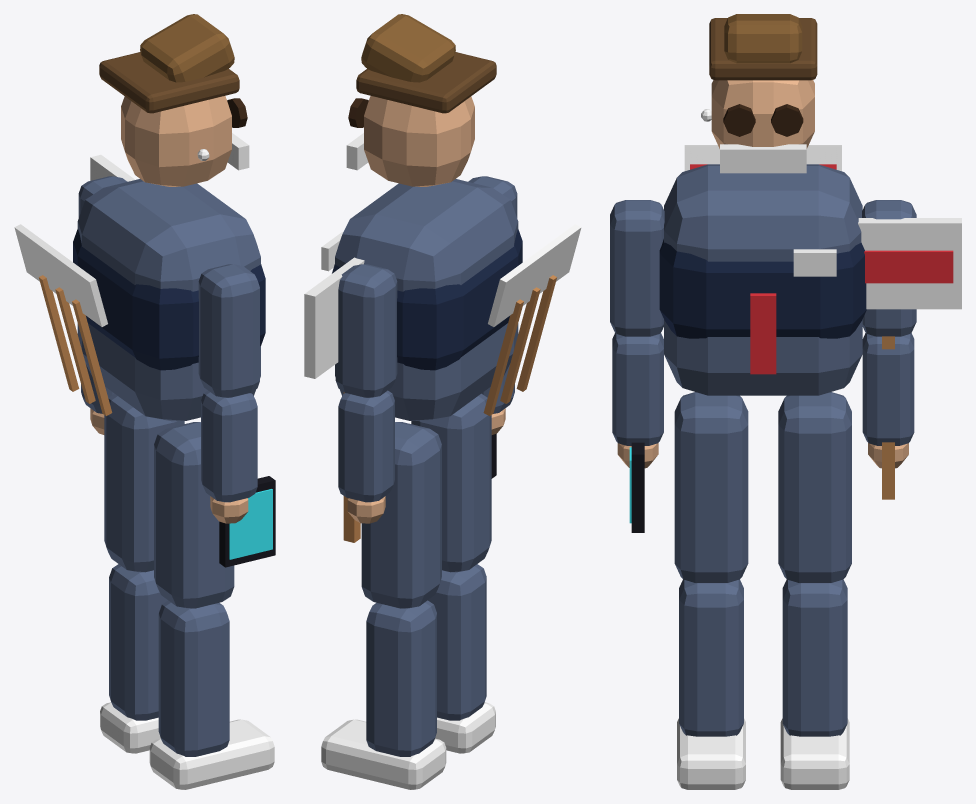
Rendered from agent_immo.glb.
The picture shows the model from 3 angles, left to right: view 1: azimuth 30°, elevation 25°; view 2: azimuth 150°, elevation 25°; view 3: azimuth 270°, elevation 25°; orthographic projection. The views are drawn at different scales.
Visible parts, largest first — view 1: p_rbox.2089, p_rbox.2083, p_rbox.2084, p_rbox.2090, p_rbox.2086, p_rbox.2091, p_rbox.2094, p_rbox.2087, p_rbox.2095, p_rbox.2085, p_rbox.2093, p_rbox.2092 (+13 smaller); view 2: p_rbox.2089, p_rbox.2086, p_rbox.2087, p_rbox.2090, p_rbox.2083, p_rbox.2091, p_rbox.2096, p_rbox.2084, p_rbox.2097, p_rbox.2088, p_rbox.2093, p_rbox.2092 (+12 smaller); view 3: p_rbox.2089, p_rbox.2090, p_rbox.2083, p_rbox.2086, p_rbox.2087, p_rbox.2084, p_rbox.2094, p_box.8288, p_rbox.2095, p_rbox.2097, p_rbox.2091, p_rbox.2088 (+14 smaller).
Part boxes in pixels (x1,y1,x2,y2): p_rbox.2089: (77,179,260,421); p_rbox.2083: (154,422,234,608); p_rbox.2084: (158,600,229,756); p_rbox.2090: (73,228,265,370); p_rbox.2086: (104,393,184,572); p_rbox.2091: (121,96,231,186); p_rbox.2094: (198,264,259,397); p_rbox.2087: (109,564,167,720); p_rbox.2095: (201,390,257,502); p_rbox.2085: (149,719,274,789); p_rbox.2093: (140,14,234,82); p_rbox.2092: (99,52,239,113); p_rbox.2089: (335,179,518,421); p_rbox.2086: (361,422,441,608); p_rbox.2087: (366,600,436,756); p_rbox.2090: (332,228,522,370); p_rbox.2083: (411,393,491,572); p_rbox.2091: (364,96,474,186); p_rbox.2096: (335,264,397,397); p_rbox.2084: (428,564,486,720); p_rbox.2097: (338,390,394,502); p_rbox.2088: (321,719,446,789); p_rbox.2093: (361,14,455,82); p_rbox.2092: (356,52,496,113); p_rbox.2089: (664,164,862,395); p_rbox.2090: (659,239,866,338); p_rbox.2083: (674,392,748,582); p_rbox.2086: (778,392,851,582); p_rbox.2087: (782,579,847,736); p_rbox.2084: (679,579,743,736); p_rbox.2094: (610,200,664,336); p_box.8288: (858,218,961,309); p_rbox.2095: (612,333,663,445); p_rbox.2097: (862,333,914,445); p_rbox.2091: (711,80,814,148); p_rbox.2088: (780,718,849,789).
Bounding box in the file's own units: 0.5224 × 1.93 × 0.815.
